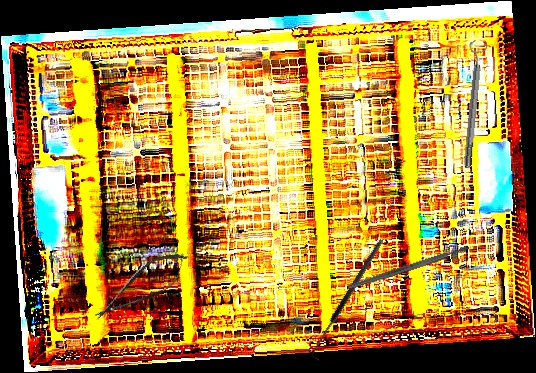Fixation Ring: (456, 39, 490, 169)
Hook Surgical: (308, 237, 390, 362)
Micro Scissor: (85, 241, 198, 333)
Scalpel Handle: (347, 244, 470, 291)
